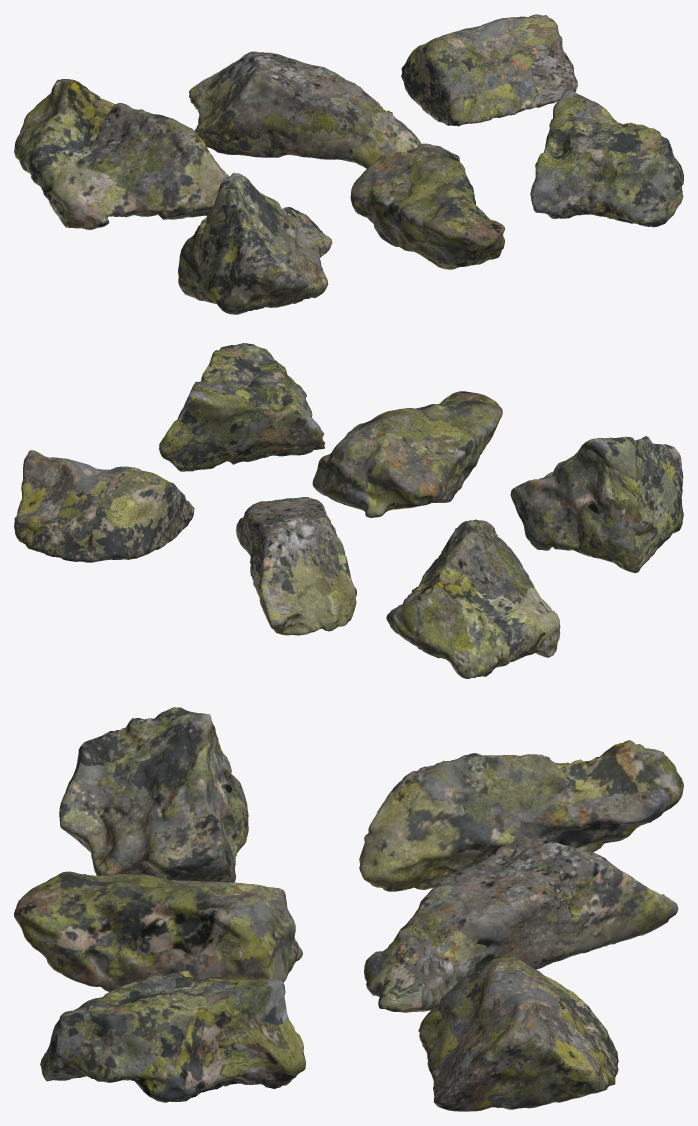
File: rock_moss_set_01.gltf
3 views of the same model, one above another, from view 1: azimuth 30°, elevation 25°; view 2: azimuth 150°, elevation 25°; view 3: azimuth 270°, elevation 25° (orthographic). The views are drawn at different scales.
Visible parts, largest first — view 1: rock_moss_set_01_rock01, rock_moss_set_01_rock02, rock_moss_set_01_rock06, rock_moss_set_01_rock04, rock_moss_set_01_rock03, rock_moss_set_01_rock05; view 2: rock_moss_set_01_rock04, rock_moss_set_01_rock01, rock_moss_set_01_rock05, rock_moss_set_01_rock03, rock_moss_set_01_rock06, rock_moss_set_01_rock02; view 3: rock_moss_set_01_rock01, rock_moss_set_01_rock02, rock_moss_set_01_rock05, rock_moss_set_01_rock04, rock_moss_set_01_rock06, rock_moss_set_01_rock03.
Part boxes in pixels (x1=…): rock_moss_set_01_rock01: x1=14, y1=79, x2=229, y2=229; rock_moss_set_01_rock02: x1=189, y1=51, x2=421, y2=168; rock_moss_set_01_rock06: x1=530, y1=89, x2=683, y2=227; rock_moss_set_01_rock04: x1=178, y1=173, x2=332, y2=314; rock_moss_set_01_rock03: x1=401, y1=14, x2=577, y2=126; rock_moss_set_01_rock05: x1=350, y1=143, x2=504, y2=269; rock_moss_set_01_rock04: x1=510, y1=436, x2=683, y2=573; rock_moss_set_01_rock01: x1=386, y1=519, x2=560, y2=678; rock_moss_set_01_rock05: x1=312, y1=391, x2=502, y2=517; rock_moss_set_01_rock03: x1=14, y1=450, x2=194, y2=562; rock_moss_set_01_rock06: x1=159, y1=343, x2=325, y2=471; rock_moss_set_01_rock02: x1=236, y1=497, x2=356, y2=635; rock_moss_set_01_rock01: x1=359, y1=740, x2=683, y2=891; rock_moss_set_01_rock02: x1=364, y1=836, x2=678, y2=1012; rock_moss_set_01_rock05: x1=14, y1=871, x2=302, y2=991; rock_moss_set_01_rock04: x1=59, y1=707, x2=248, y2=882; rock_moss_set_01_rock06: x1=40, y1=970, x2=305, y2=1102; rock_moss_set_01_rock03: x1=418, y1=956, x2=618, y2=1111.
Bounding box in the file's own units: 8 × 1.77 × 6.95.
